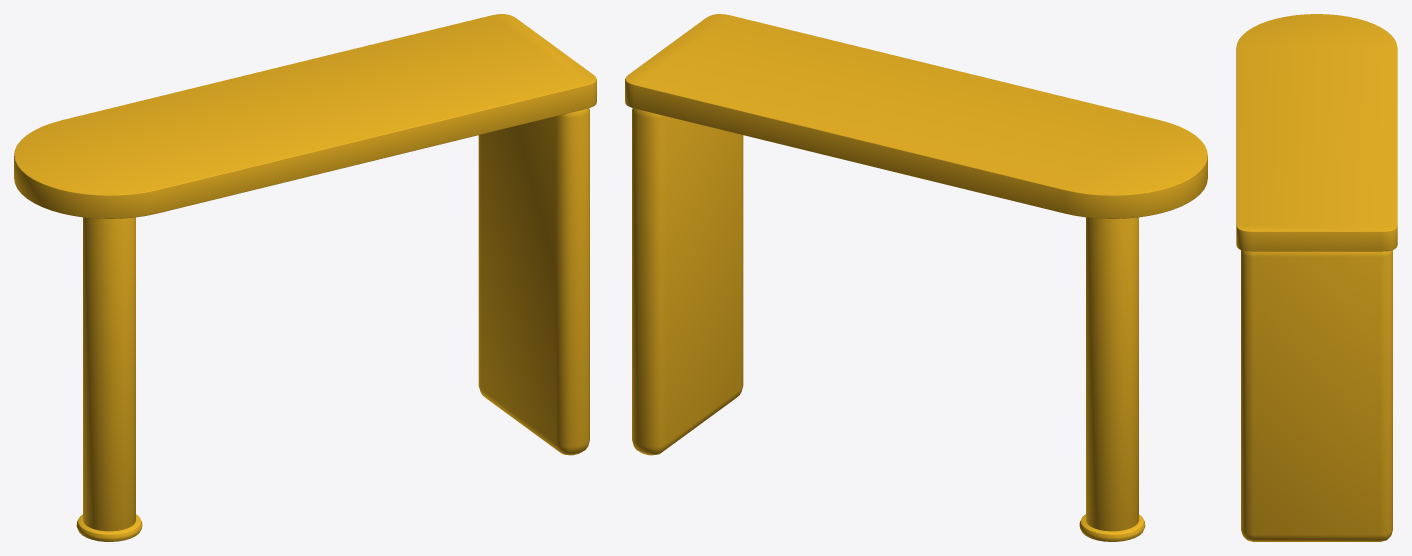
File: aparador_u_amarelo.glb
The picture shows the model from 3 angles, left to right: view 1: azimuth 30°, elevation 25°; view 2: azimuth 150°, elevation 25°; view 3: azimuth 270°, elevation 25°; orthographic projection. The views are drawn at different scales.
Visible parts, largest first — view 1: aparador_u_amarelo; view 2: aparador_u_amarelo; view 3: aparador_u_amarelo.
Part boxes in pixels (box(x1,y1,x2,y2)): aparador_u_amarelo: box(14, 14, 596, 541); aparador_u_amarelo: box(625, 14, 1207, 541); aparador_u_amarelo: box(1236, 14, 1397, 541).
Size of the model in its own units: 1.15 by 0.78 by 0.36.
1 material, 1 textured.
